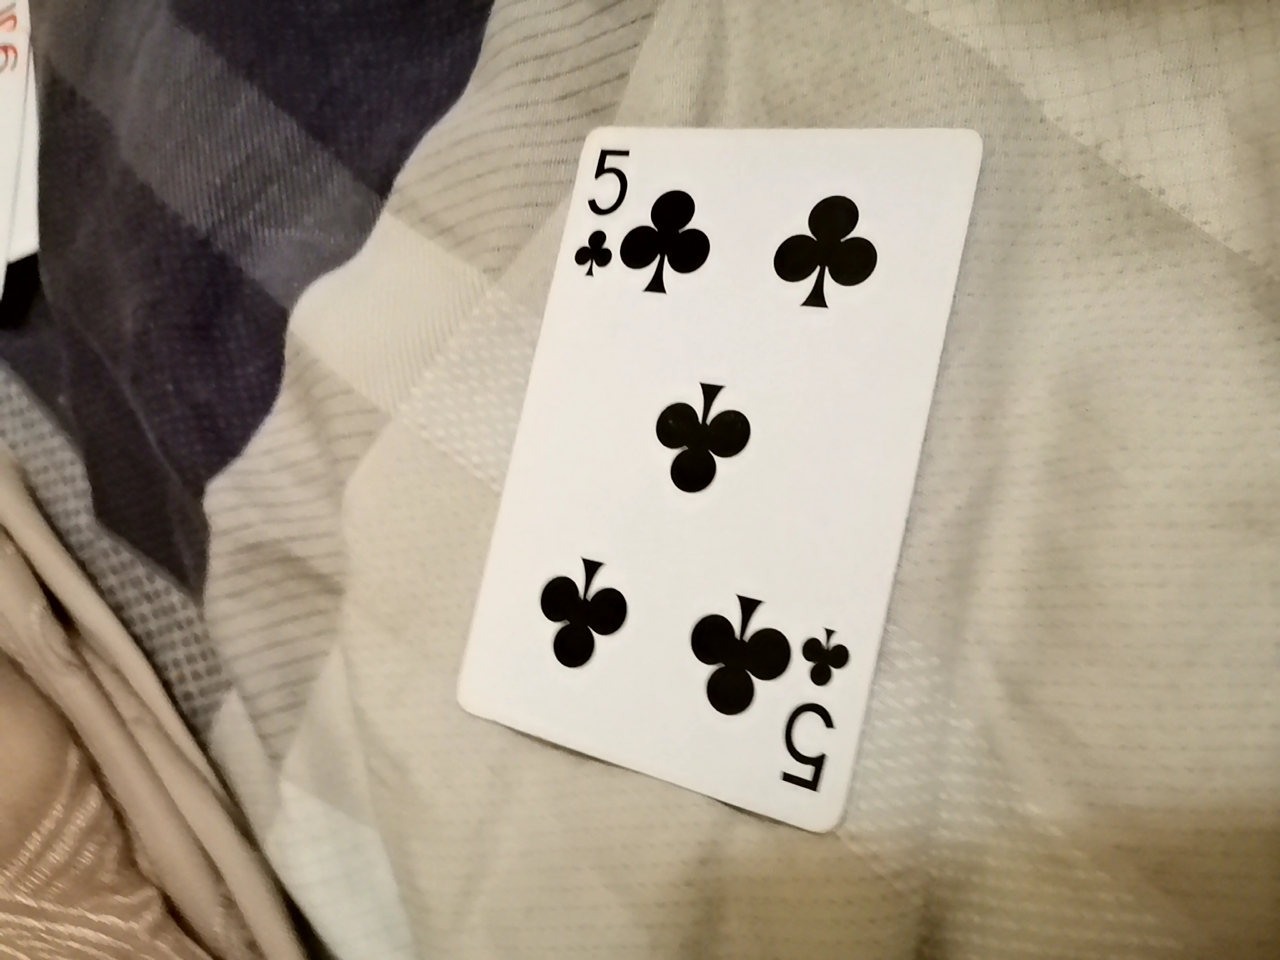mh 5: (449, 120, 995, 825)
